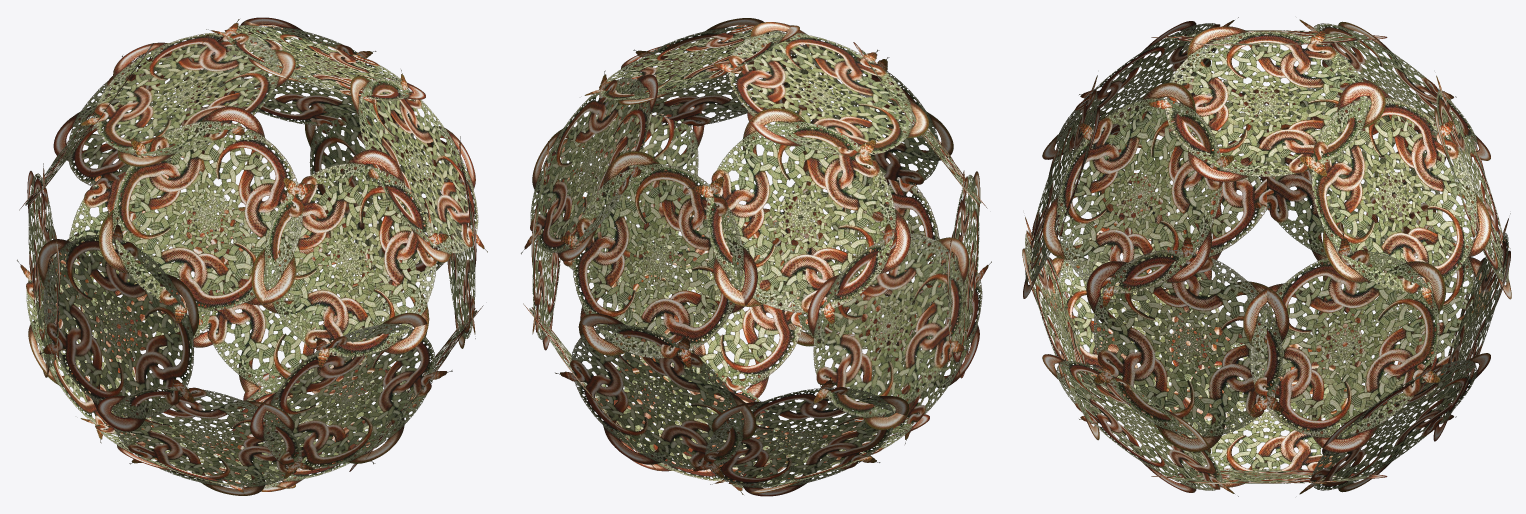
File: IcositruncatedDodecadodecahedron41.gltf
The picture shows the model from 3 angles, left to right: view 1: azimuth 30°, elevation 25°; view 2: azimuth 150°, elevation 25°; view 3: azimuth 270°, elevation 25°; orthographic projection. The views are drawn at different scales.
Parts seen in each view (by area): view 1: IcositruncatedDodecadodecahedron; view 2: IcositruncatedDodecadodecahedron; view 3: IcositruncatedDodecadodecahedron.
Part boxes in pixels (x1,y1,x2,y2): IcositruncatedDodecadodecahedron: (17, 17, 487, 495); IcositruncatedDodecadodecahedron: (521, 18, 991, 496); IcositruncatedDodecadodecahedron: (1022, 17, 1511, 496).
Size of the model in its own units: 3.85 by 3.85 by 3.85.
1 material, 1 textured.
